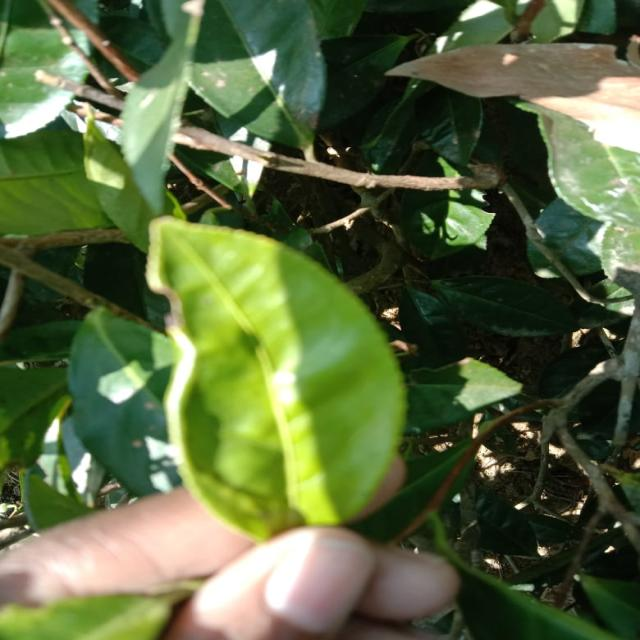Category B 2-4 days: (140, 208, 412, 551)
